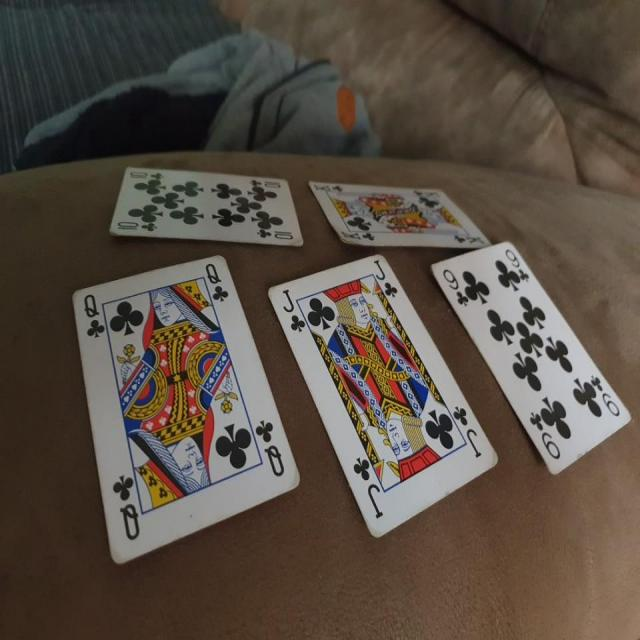10 Trefoils: (105, 167, 304, 253)
9 Trefoils: (429, 242, 633, 477)
J Trefoils: (265, 253, 498, 542)
K Trefoils: (306, 176, 492, 251)
Q Trefoils: (72, 255, 300, 564)
